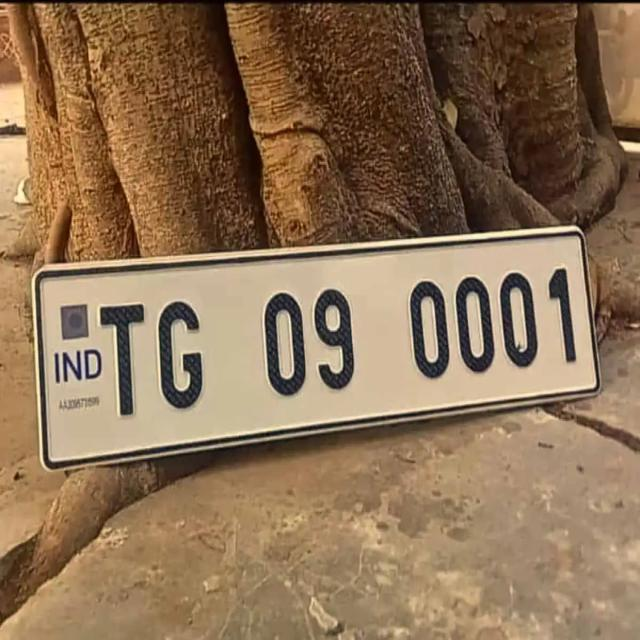plate: (30, 222, 602, 471)
